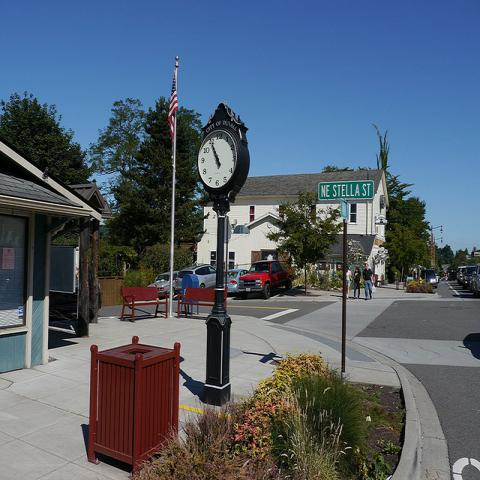car: (176, 262, 216, 296), (149, 270, 180, 295), (227, 269, 248, 297), (472, 262, 479, 298), (456, 265, 468, 285), (436, 275, 442, 284)
truck: (237, 260, 296, 301), (420, 269, 437, 289), (462, 266, 476, 290)
